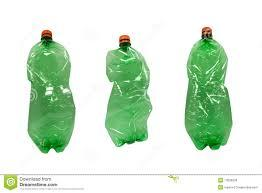plastic: (22, 31, 73, 154)
